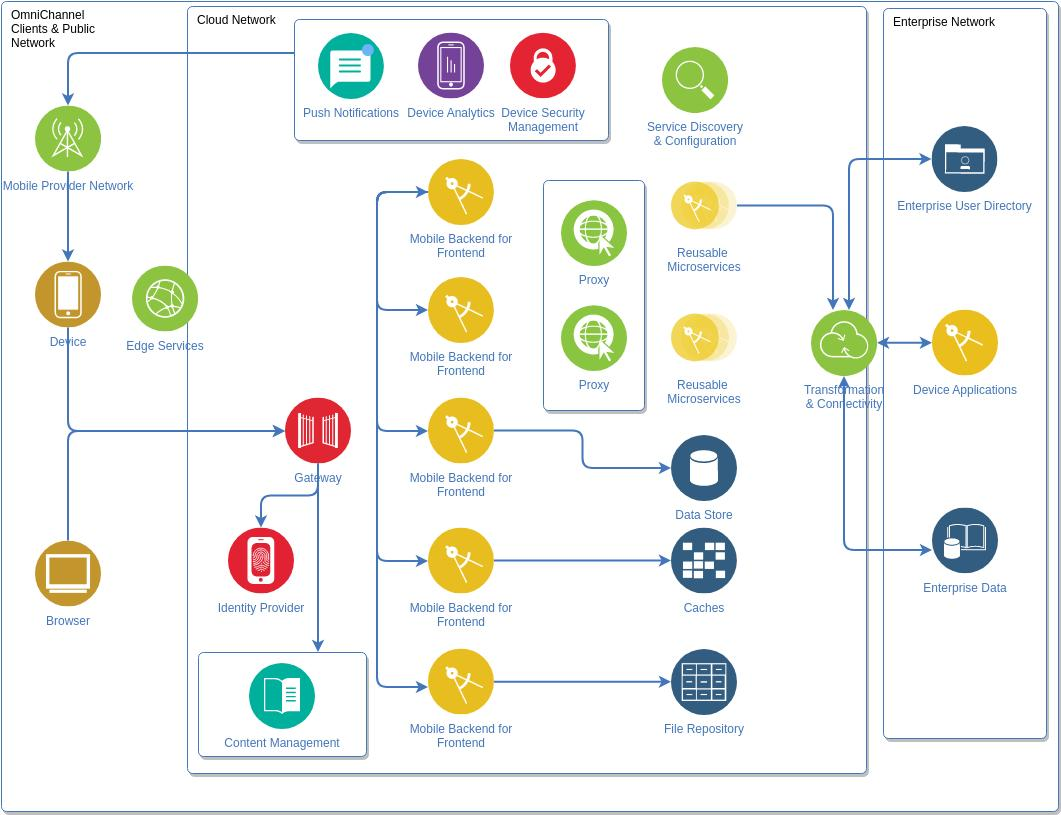Auth: (227, 529, 293, 591)
Backend: (419, 396, 500, 463), (422, 157, 493, 229), (426, 271, 497, 343), (428, 528, 496, 597), (434, 642, 493, 721), (932, 308, 996, 376), (668, 307, 730, 370), (669, 176, 724, 233)
Cache: (671, 522, 741, 603)
Database: (674, 434, 738, 501), (933, 508, 998, 569)
Firewall: (507, 32, 577, 101), (284, 398, 353, 468)
Frontend: (127, 264, 199, 332)
Messaging: (306, 30, 388, 103)
Networking: (809, 306, 880, 379), (31, 106, 100, 172)
Storage: (670, 648, 736, 712), (939, 128, 992, 189)
User: (28, 257, 109, 332), (30, 539, 104, 602)
